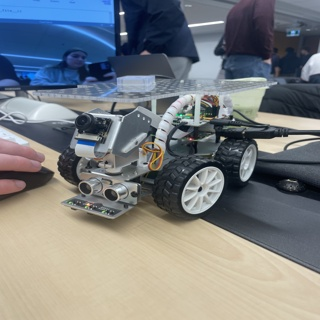vehicle: (38, 79, 277, 218)
